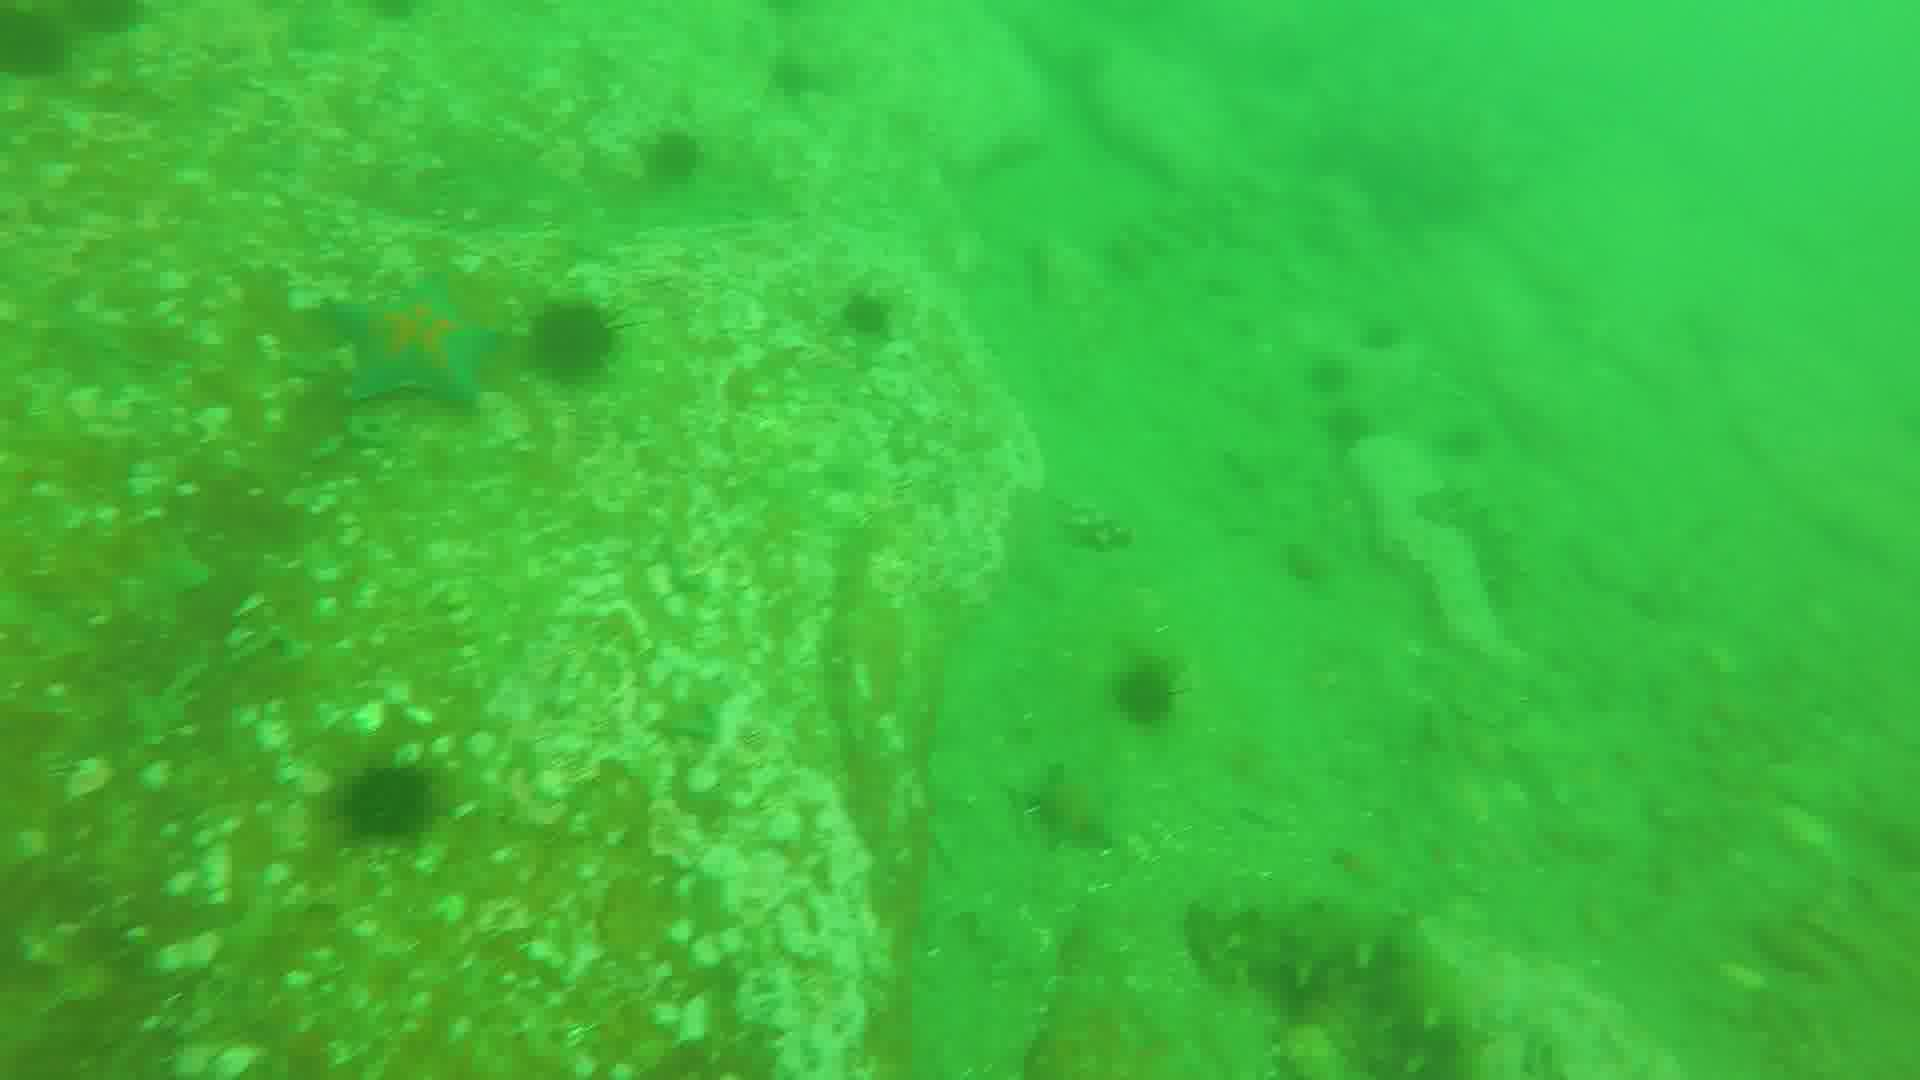echinus: (345, 758, 444, 847), (533, 298, 632, 380), (640, 115, 711, 196), (1, 1, 76, 78), (833, 280, 902, 351), (1112, 662, 1188, 724), (69, 1, 146, 46), (1361, 301, 1414, 357), (1303, 349, 1350, 404), (1319, 405, 1373, 452)
holothurian: (1195, 887, 1489, 1080)
starfish: (328, 270, 514, 411), (1030, 766, 1131, 858)
